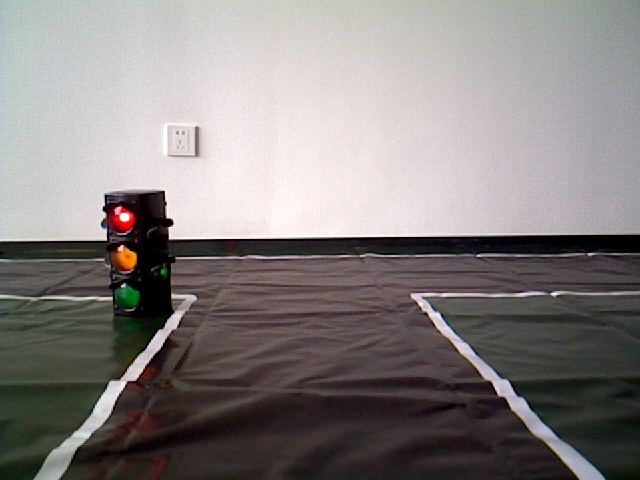red: (108, 198, 169, 320)
